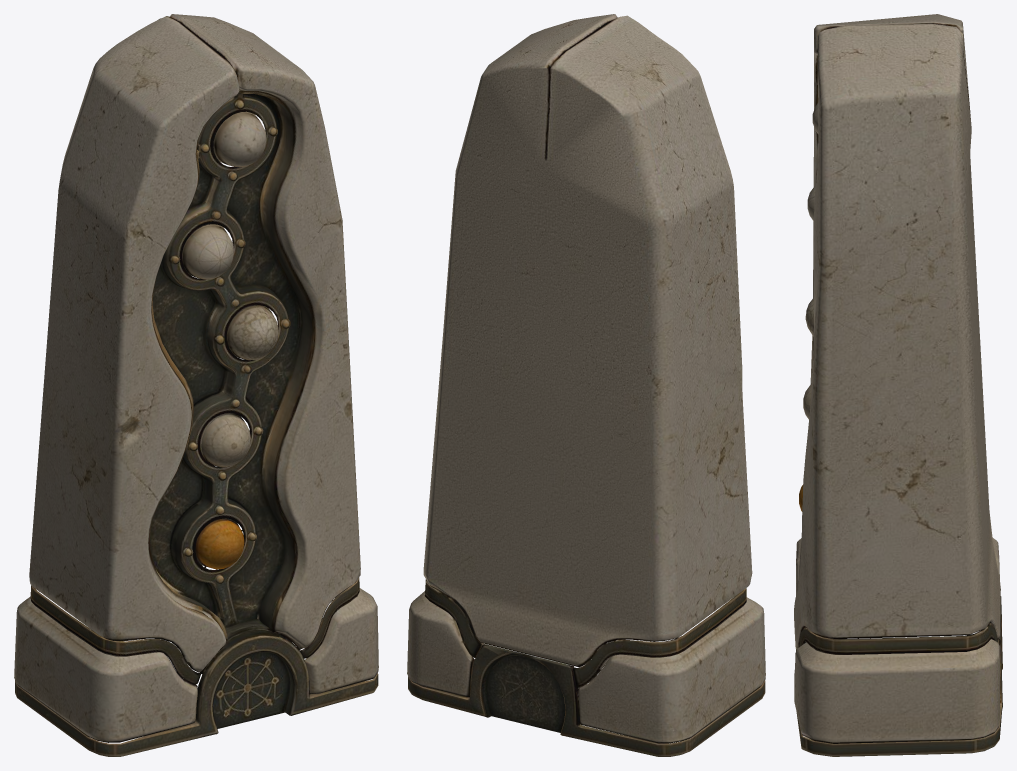
Rendered from source-mapped-claim.glb.
3 renders of one model, left to right at view 1: azimuth 30°, elevation 25°; view 2: azimuth 150°, elevation 25°; view 3: azimuth 270°, elevation 25°, orthographic.
Parts seen in each view (by area): view 1: tripo_7980826d_c756_4600_a4fb_415b0f17a5f2; view 2: tripo_7980826d_c756_4600_a4fb_415b0f17a5f2; view 3: tripo_7980826d_c756_4600_a4fb_415b0f17a5f2.
Boxes of the visible parts, bbox=[...] form: tripo_7980826d_c756_4600_a4fb_415b0f17a5f2: bbox=[14, 14, 378, 756]; tripo_7980826d_c756_4600_a4fb_415b0f17a5f2: bbox=[407, 14, 765, 756]; tripo_7980826d_c756_4600_a4fb_415b0f17a5f2: bbox=[794, 14, 1002, 756].
Size of the model in its own units: 0.4614 by 0.9995 by 0.2847.
Materials: 1 (1 with a texture image).
